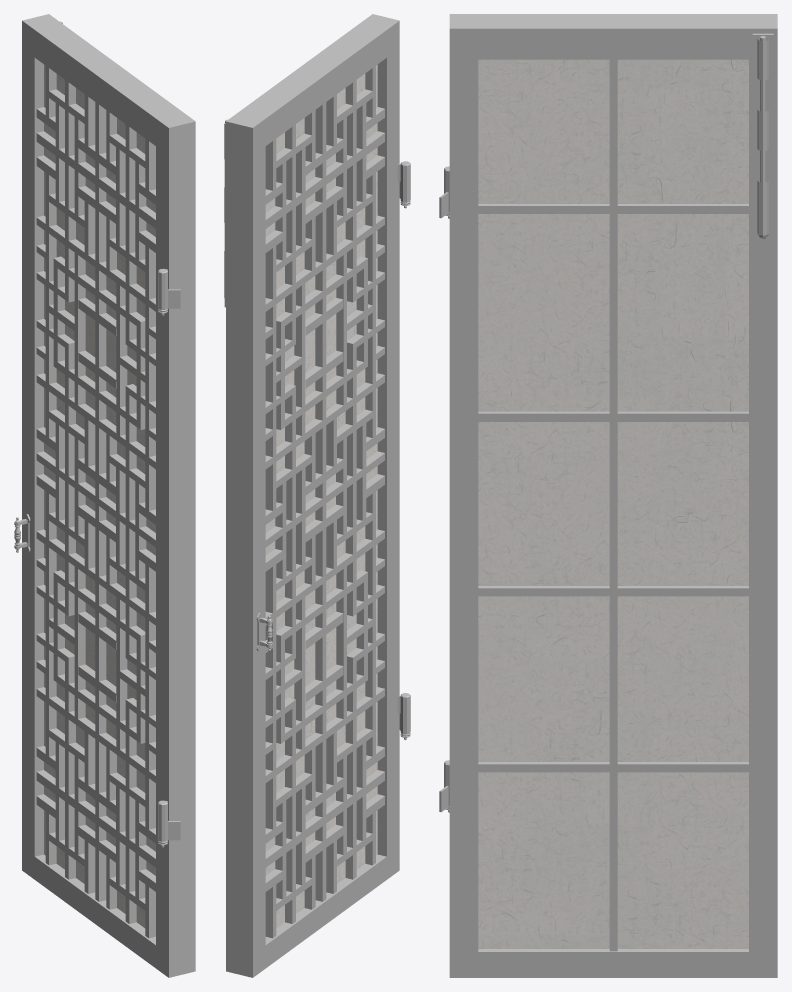
Rendered from SM_Door13A-a.fbx.
3 views of the same model, side by side, from view 1: azimuth 30°, elevation 25°; view 2: azimuth 150°, elevation 25°; view 3: azimuth 270°, elevation 25° (orthographic). The views are drawn at different scales.
Visible parts, largest first — view 1: SM_Door13A-a; view 2: SM_Door13A-a; view 3: SM_Door13A-a.
Boxes of the visible parts, <box> form: SM_Door13A-a: <box>14,14,195,977</box>; SM_Door13A-a: <box>224,14,410,977</box>; SM_Door13A-a: <box>439,14,777,977</box>.
Size of the model in its own units: 10.68 by 58.96 by 183.
